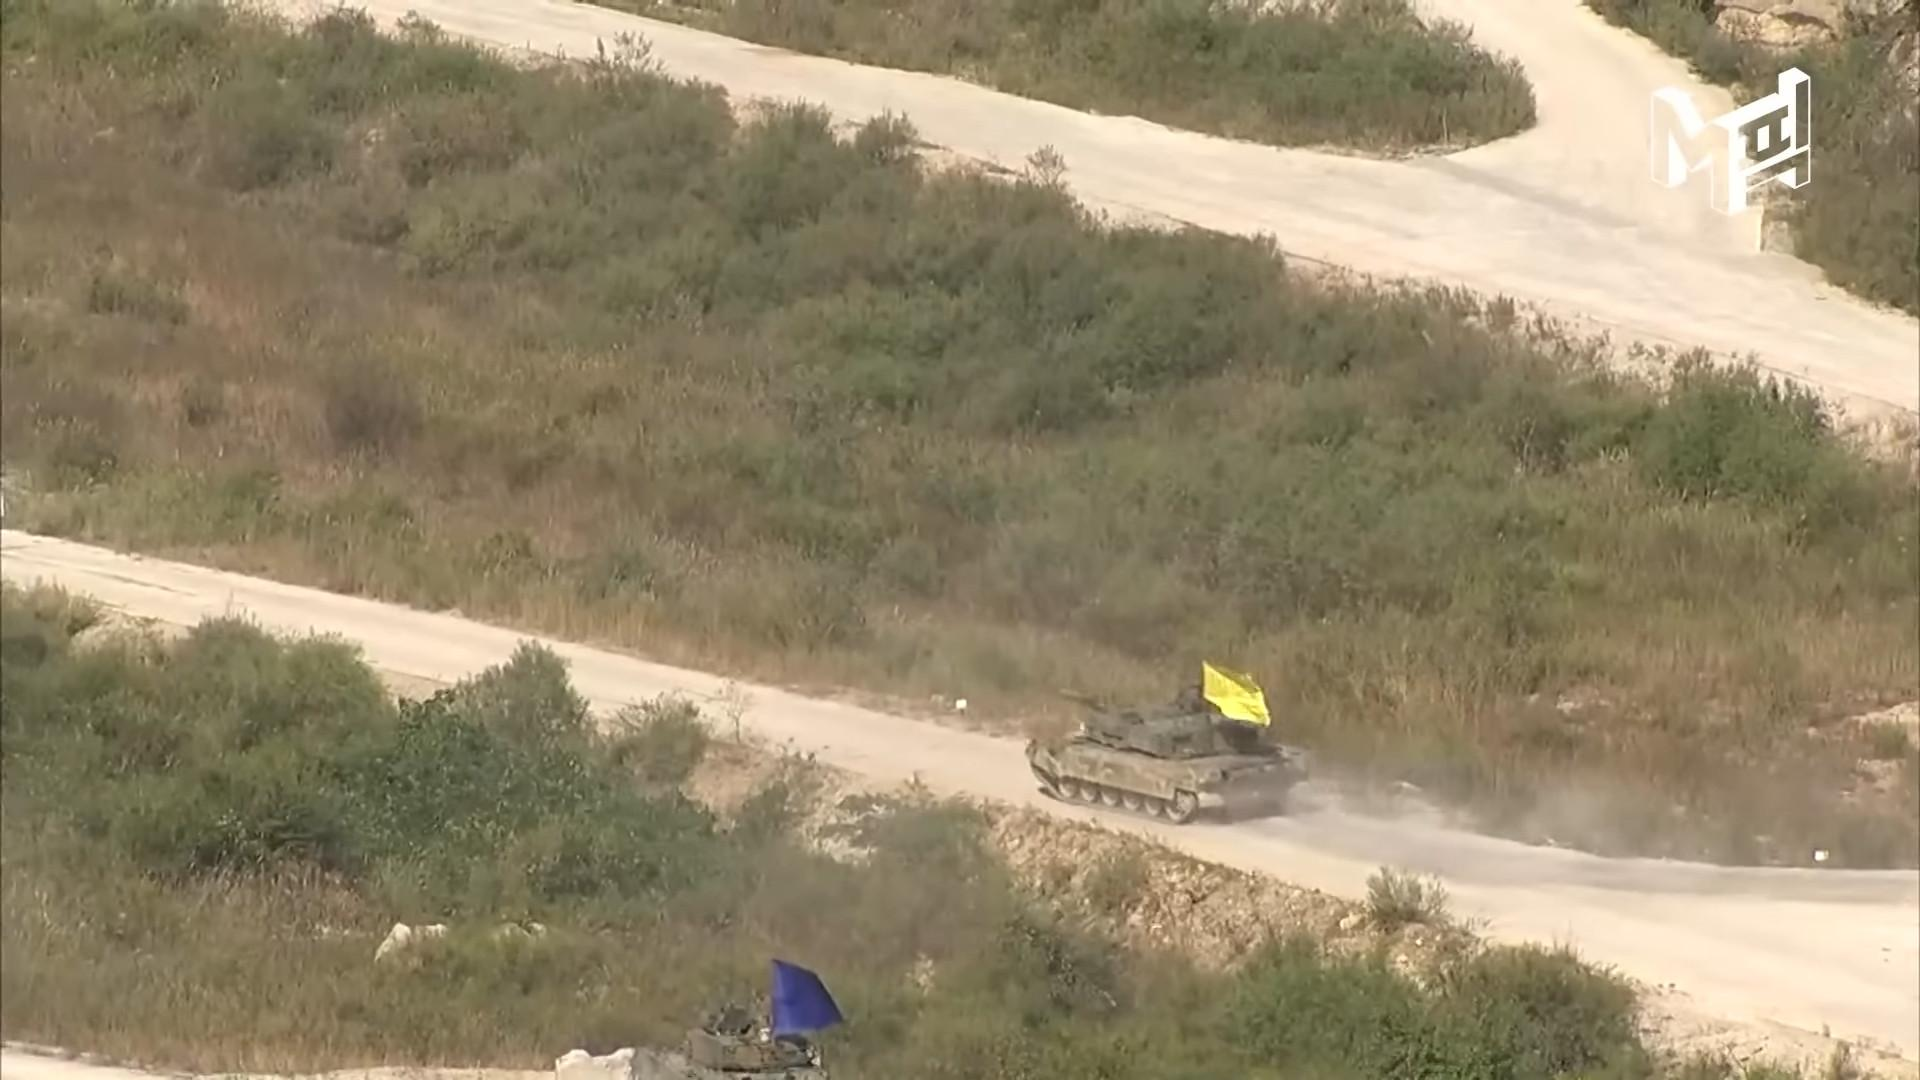tank: (1025, 686, 1309, 824)
